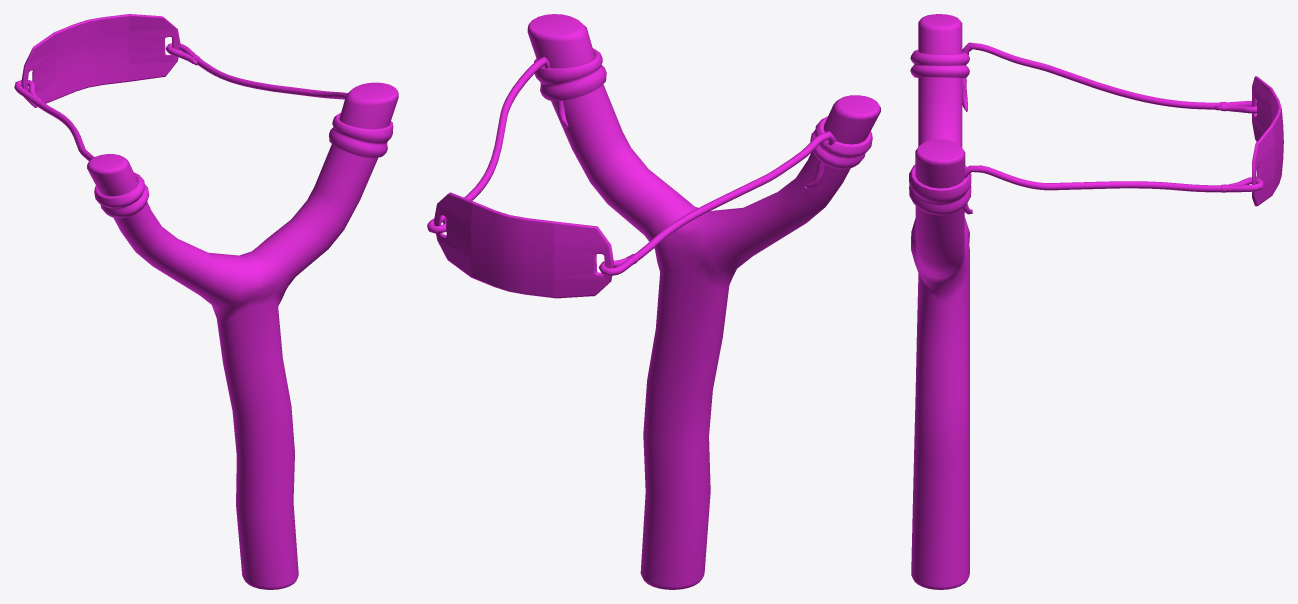
File: SlingShot.fbx
3 renders of one model, left to right at view 1: azimuth 30°, elevation 25°; view 2: azimuth 150°, elevation 25°; view 3: azimuth 270°, elevation 25°, orthographic. The views are drawn at different scales.
Parts seen in each view (by area): view 1: stalk, grip, elastic_L, elastic_R; view 2: stalk, grip, elastic_R, elastic_L; view 3: stalk, grip, elastic_R, elastic_L.
Boxes of the visible parts, x1,y1,x2,y2 form: stalk: (87, 82, 398, 589); grip: (21, 14, 180, 107); elastic_L: (166, 43, 346, 99); elastic_R: (14, 80, 94, 160); stalk: (527, 14, 880, 589); grip: (433, 192, 613, 298); elastic_R: (598, 131, 836, 275); elastic_L: (427, 57, 568, 233); stalk: (909, 14, 971, 589); grip: (1252, 76, 1283, 206); elastic_R: (962, 42, 1256, 113); elastic_L: (963, 165, 1264, 214).
Bounding box in the file's own units: 13.01 × 18.85 × 13.26.
